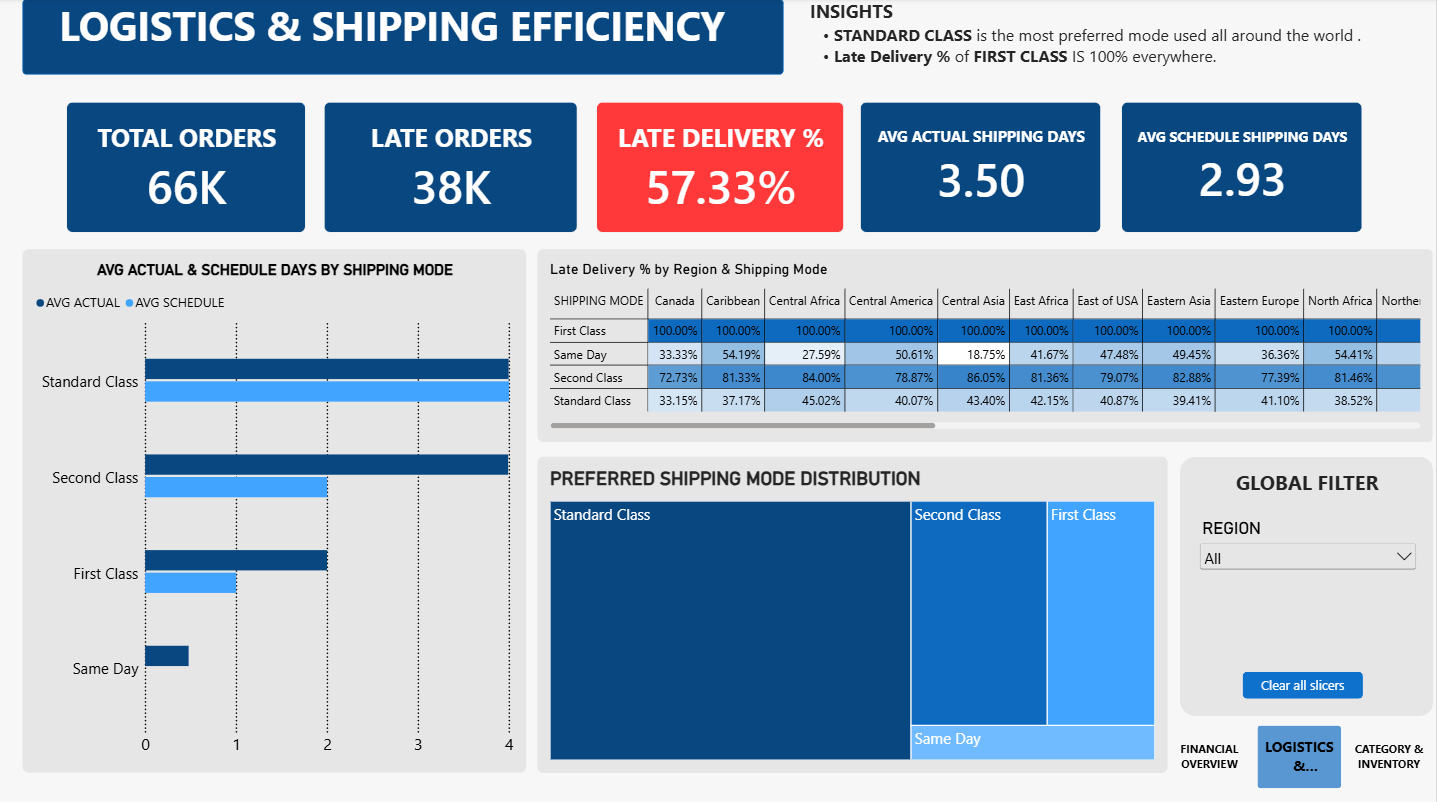

The page's visual inventory and layout, read from the dashboard file:
{"tool":"powerbi","page":{"name":"LOGISTICS & SHIPPING EFFICIENCY","canvas":[1920,1080],"ordinal":1},"visuals":[{"type":"shape","box":[30.3,2.2,1016.5,100.6],"z":0},{"type":"pageNavigator","box":[1560.3,971.7,354.9,84.4],"z":1000},{"type":"textbox","box":[0,0,1047.4,99.6],"z":2000},{"type":"cardVisual","fields":{"Data":["_all_measures.total_order"]},"box":[88.7,138.5,320.3,175.3],"z":3000},{"type":"cardVisual","fields":{"Data":["_all_measures.late_orders_count"]},"box":[432.8,138.5,339.8,175.3],"z":4000},{"type":"cardVisual","fields":{"Data":["_all_measures.late_delivery%"]},"box":[796.4,138.5,331.1,175.3],"z":5000},{"type":"cardVisual","fields":{"Data":["_all_measures.avg_actual_shipping_days"]},"box":[1149.2,138.5,322.5,175.3],"z":6000},{"type":"cardVisual","fields":{"Data":["_all_measures.avg_schedule_shipping_day"]},"box":[1497.6,138.5,322.5,175.3],"z":7000},{"type":"clusteredBarChart","title":"AVG ACTUAL & SCHEDULE DAYS BY  SHIPPING MODE","fields":{"Category":["public supply_chain_clean.shipping_mode"],"Y":["_all_measures.avg_actual_shipping_days","_all_measures.avg_schedule_shipping_day"]},"box":[30.3,335.4,673,699],"z":8000},{"type":"pivotTable","title":"Late Delivery % by Region & Shipping Mode","fields":{"Columns":["public supply_chain_clean.order_region"],"Rows":["public supply_chain_clean.shipping_mode"],"Values":["_all_measures.late_delivery%"]},"box":[718.5,335.4,1196.8,257.5],"z":9000},{"type":"treemap","title":"PREFERRED SHIPPING MODE DISTRIBUTION","fields":{"Group":["public supply_chain_clean.shipping_mode"],"Values":["_all_measures.total_items_order"]},"box":[718.5,612.5,841.9,422],"z":10000},{"type":"shape","box":[1575.5,612.5,339.8,346.3],"z":11000},{"type":"textbox","box":[1575.5,627.6,339.8,58.4],"z":12000},{"type":"slicer","fields":{"Values":["public supply_chain_clean.order_region"]},"box":[1597.1,694.7,298.7,90.9],"z":13000},{"type":"actionButton","box":[1659.9,900.3,161.1,36.2],"z":15000},{"type":"textbox","box":[1082.1,2.2,792.1,136.3],"z":17000}]}

Visuals, with their boxes in screenshot pixels (x1, y1, x2, y2), scaled from the page's 1920x1080 canvas onto the 1437x802 screenshot:
shape: 23 2 783 76
pageNavigator: 1168 722 1433 784
textbox: 0 0 784 74
cardVisual - _all_measures.total_order: 66 103 306 233
cardVisual - _all_measures.late_orders_count: 324 103 578 233
cardVisual - _all_measures.late_delivery%: 596 103 844 233
cardVisual - _all_measures.avg_actual_shipping_days: 860 103 1101 233
cardVisual - _all_measures.avg_schedule_shipping_day: 1121 103 1362 233
"AVG ACTUAL & SCHEDULE DAYS BY  SHIPPING MODE" clusteredBarChart: 23 249 526 768
"Late Delivery % by Region & Shipping Mode" pivotTable: 538 249 1433 440
"PREFERRED SHIPPING MODE DISTRIBUTION" treemap: 538 455 1168 768
shape: 1179 455 1433 712
textbox: 1179 466 1433 509
slicer - public supply_chain_clean.order_region: 1195 516 1419 583
actionButton: 1242 669 1363 695
textbox: 810 2 1403 103
